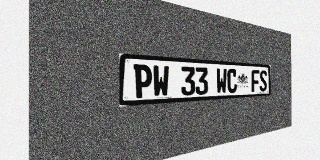3: (181, 66, 195, 96), (195, 67, 208, 95)
C: (227, 69, 237, 93)
F: (251, 70, 259, 92)
P: (133, 64, 152, 98)
S: (259, 70, 267, 91)
W: (153, 65, 169, 97), (216, 68, 227, 94)
